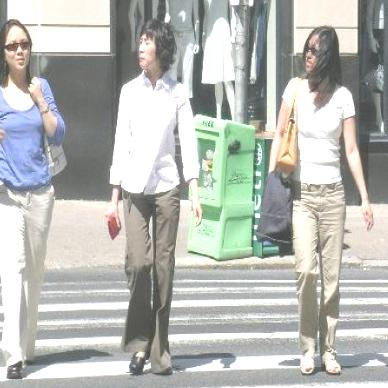ped: (259, 27, 373, 374), (105, 19, 204, 375), (1, 19, 67, 378)
